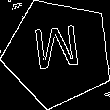M_S: (32, 25, 85, 81)
